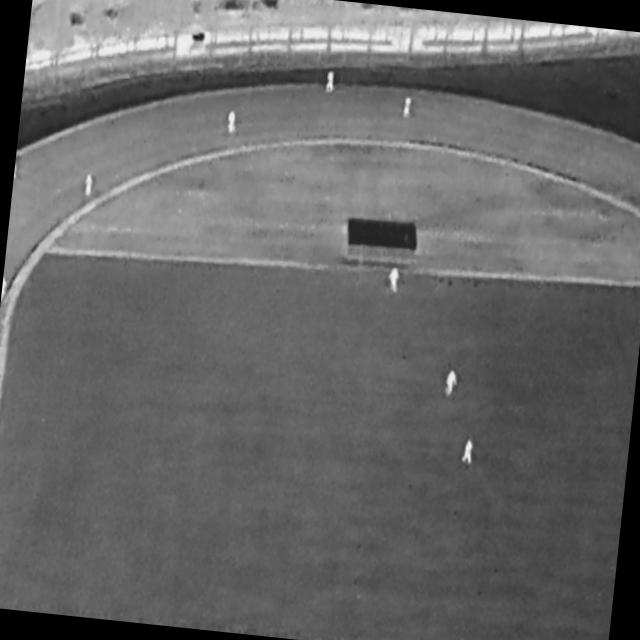person: (444, 370, 459, 399), (387, 267, 401, 294), (462, 439, 475, 465), (226, 110, 238, 135), (325, 72, 336, 94), (84, 174, 94, 197), (403, 98, 413, 120), (2, 278, 8, 301), (15, 166, 19, 180)
